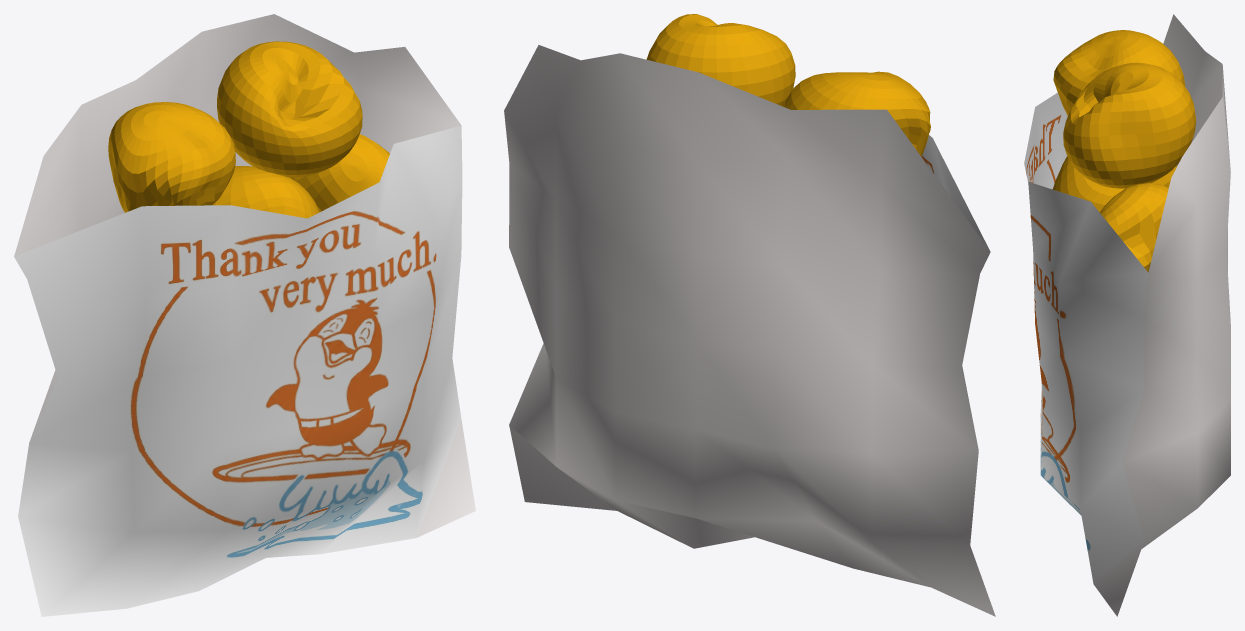
File: sweetPotatoBalls1.fbx
3 renders of one model, left to right at view 1: azimuth 30°, elevation 25°; view 2: azimuth 150°, elevation 25°; view 3: azimuth 270°, elevation 25°, orthographic. The views are drawn at different scales.
Visible parts, largest first — view 1: Plane, Sphere, Sphere.002, Sphere.004, Sphere.005; view 2: Plane, Sphere, Sphere.002; view 3: Plane, Sphere, Sphere.002, Sphere.004, Sphere.005.
Part boxes in pixels (x1,y1,x2,y2): Plane: (14, 14, 475, 616); Sphere: (217, 41, 362, 177); Sphere.002: (108, 102, 235, 212); Sphere.004: (290, 134, 389, 211); Sphere.005: (212, 166, 319, 218); Plane: (504, 45, 995, 616); Sphere: (646, 14, 795, 106); Sphere.002: (784, 71, 930, 156); Plane: (1024, 14, 1230, 616); Sphere: (1063, 62, 1196, 188); Sphere.002: (1053, 30, 1185, 115); Sphere.004: (1100, 182, 1168, 272); Sphere.005: (1052, 156, 1176, 212).
Size of the model in its own units: 56.18 by 60.15 by 24.22.
